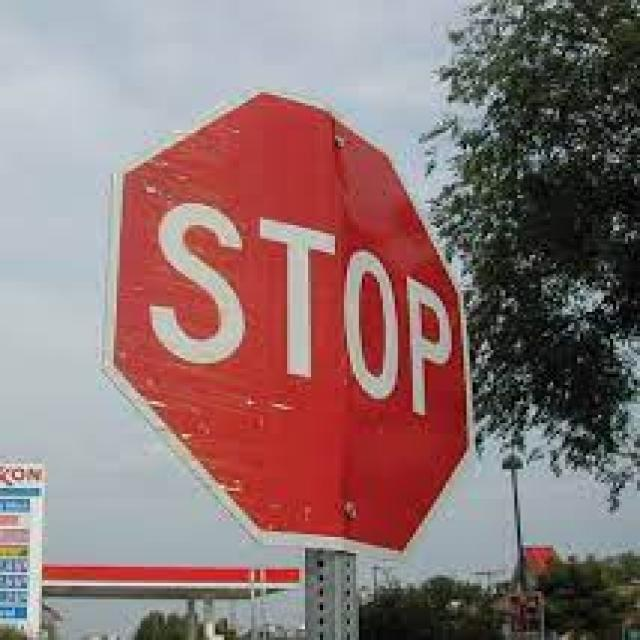stop-sign: (86, 63, 530, 586)
